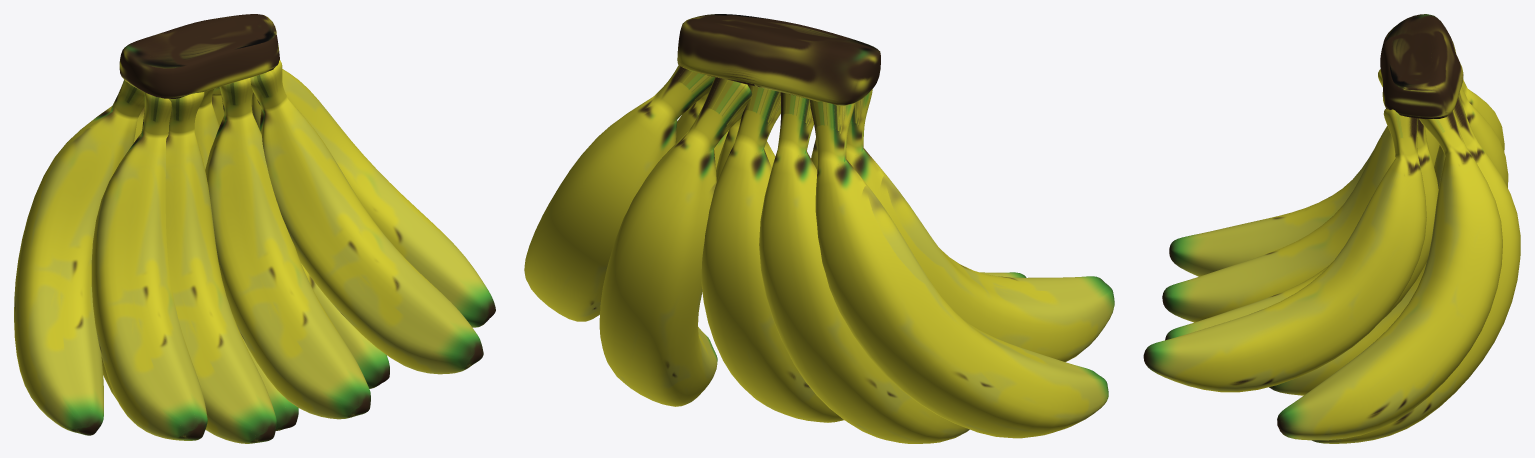
Rendered from Banana Bunch 2.fbx.
3 views of the same model, side by side, from view 1: azimuth 30°, elevation 25°; view 2: azimuth 150°, elevation 25°; view 3: azimuth 270°, elevation 25° (orthographic). The views are drawn at different scales.
Visible parts, largest first — view 1: Mesh; view 2: Mesh; view 3: Mesh.
Boxes of the visible parts, left/top/right/bottom form: Mesh: left=14, top=14, right=495, bottom=443; Mesh: left=524, top=14, right=1114, bottom=443; Mesh: left=1143, top=14, right=1520, bottom=443.
Bounding box in the file's own units: 10.72 × 8.27 × 8.24.
Materials: 1 (1 with a texture image).
